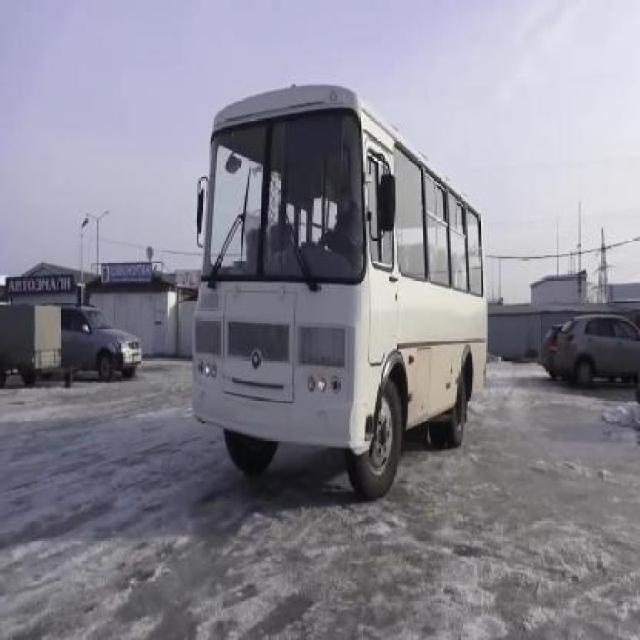Bus: (195, 79, 487, 496)
